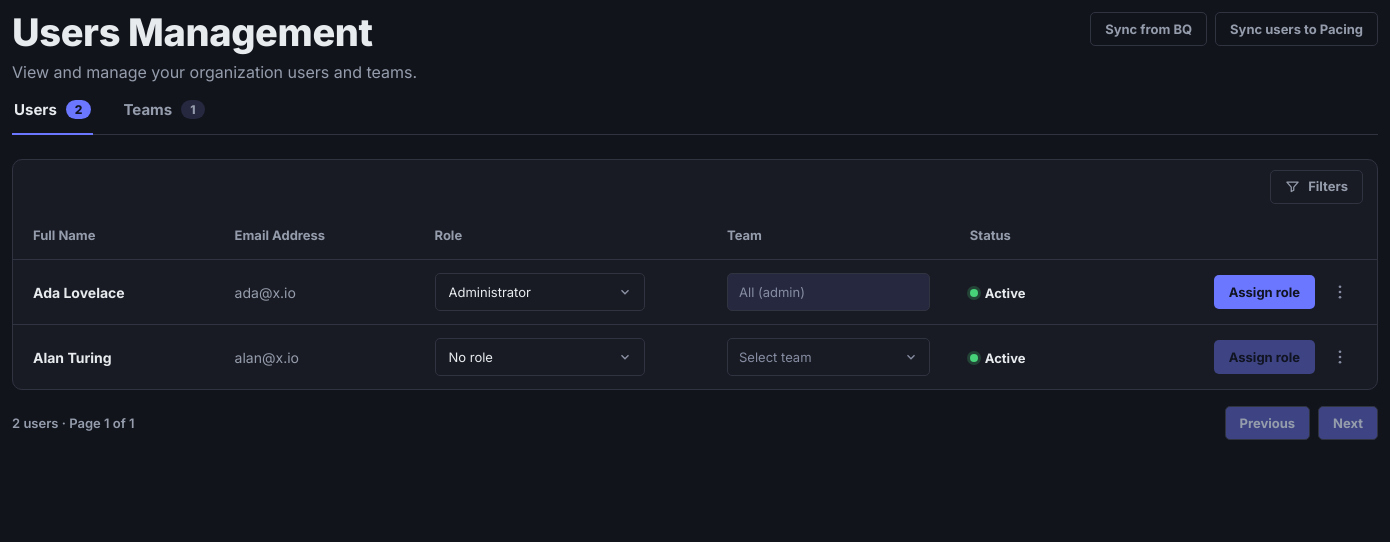
it: TeamManagement › should disable Revoke Role in the actions menu for a user with no active role
expect the text "Alan Turing" is shown: met, box [13,325,215,389]
Click the button named "Actions for Alan Turing": x=1340, y=357 [1323,340,1357,374]
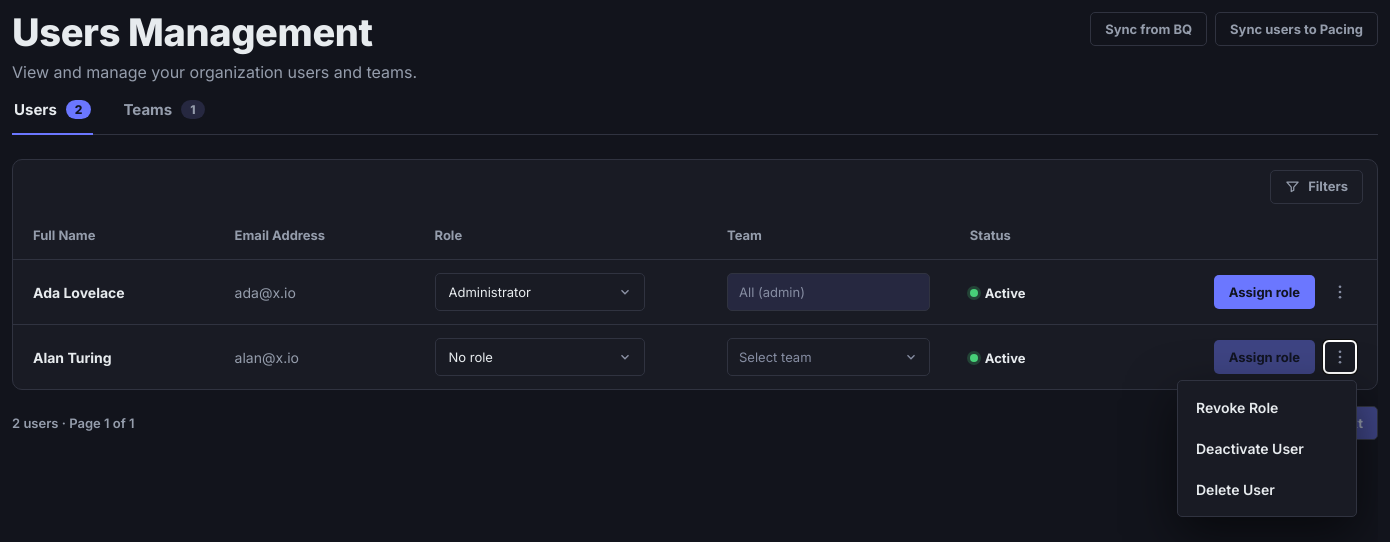
expect the menu item "Revoke Role" is disabled: met, box [1184,387,1350,428]
